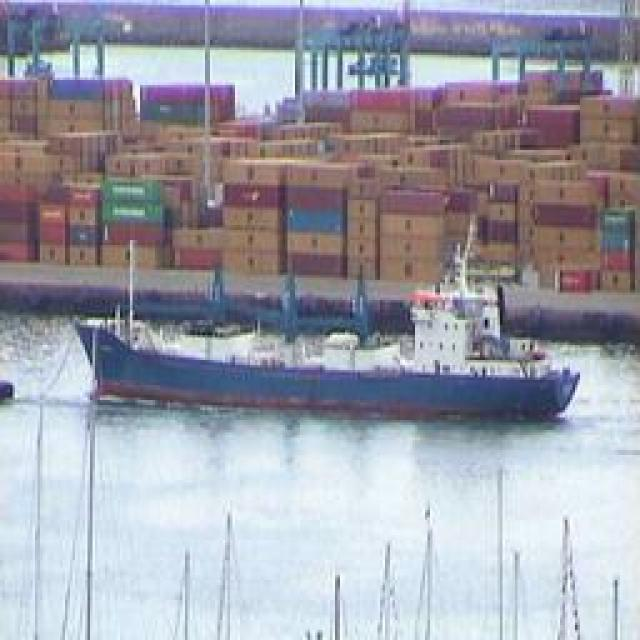CIV_Ship: (65, 314, 573, 416)
